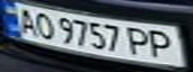5: (84, 19, 106, 52)
7: (103, 21, 124, 54), (69, 17, 90, 47)
9: (54, 15, 75, 45)
A: (12, 6, 42, 35)
O: (30, 10, 57, 40)
P: (145, 27, 181, 60), (124, 25, 154, 57)
